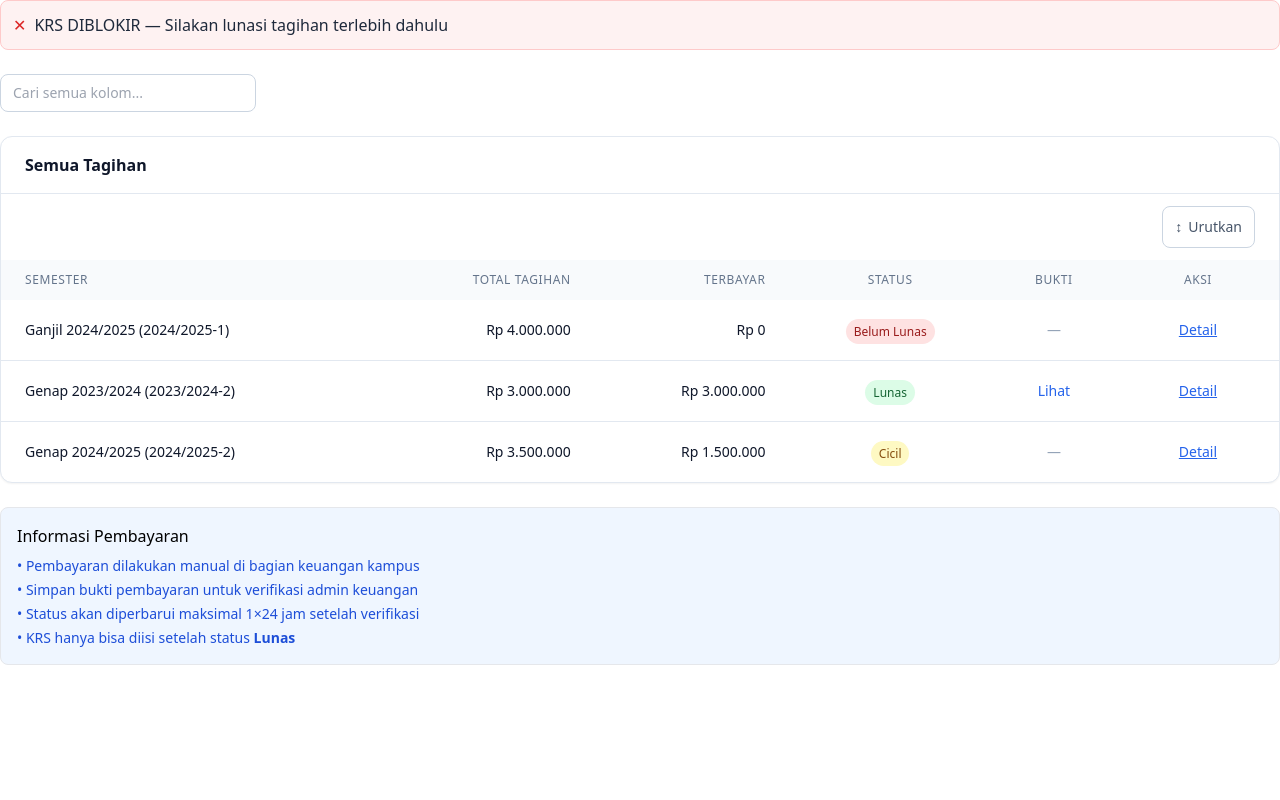
Test case: MyPaymentPage (T2.6) - All semesters table › modal partial → tampilkan progress bar
The width and height of the screenshot is (1280, 800).
Check: the text "Ganjil 2024/2025 (2024/2025-1)" is shown, box x1=1 y1=300 x2=380 y2=360
// Klik Detail pada baris partial (Genap 2024/2025, index 2)
Click the button "Detail" in the row of "Genap 2024/2025".
click(1198, 452)  # box x1=1167 y1=438 x2=1229 y2=466
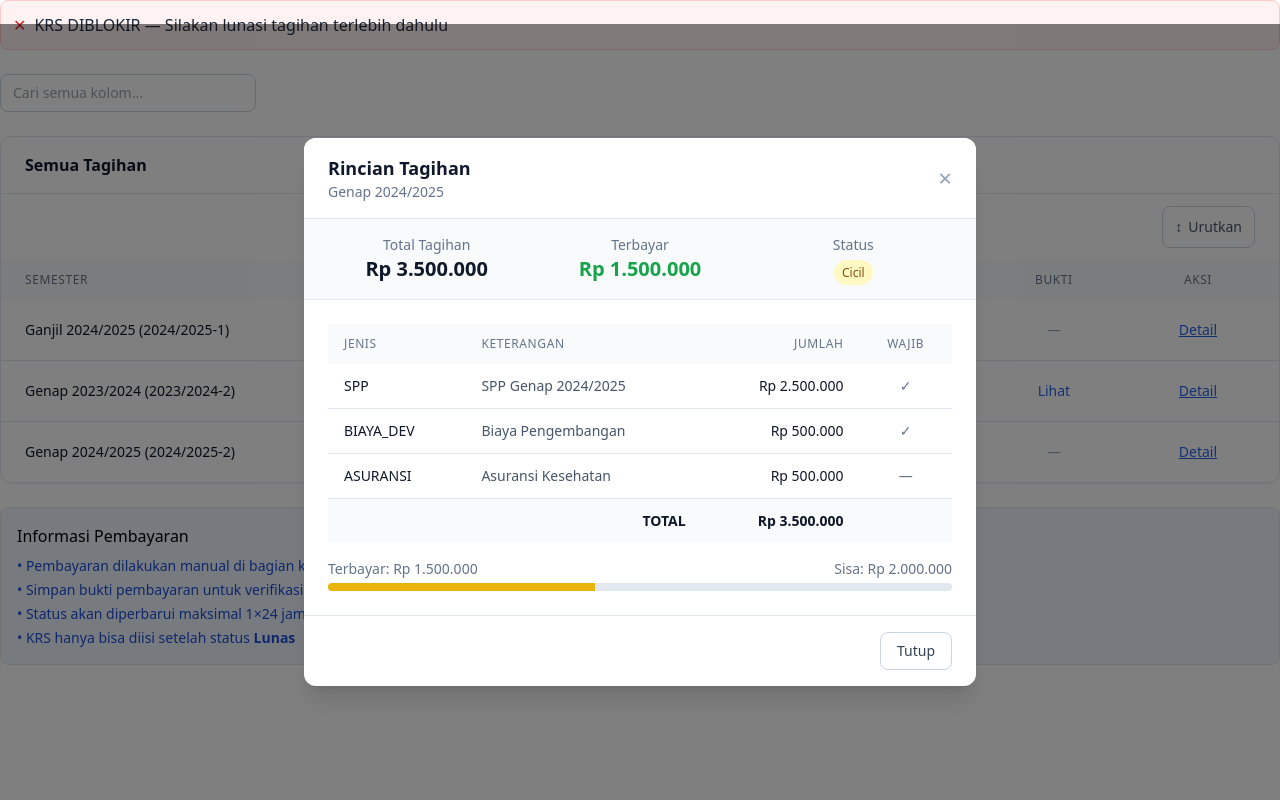
Check: the dialog is shown
Check: the text "Terbayar: Rp 1.500.000" is shown, box x1=328 y1=559 x2=478 y2=579
Check: the text "Sisa: Rp 2.000.000" is shown, box x1=834 y1=559 x2=952 y2=579
